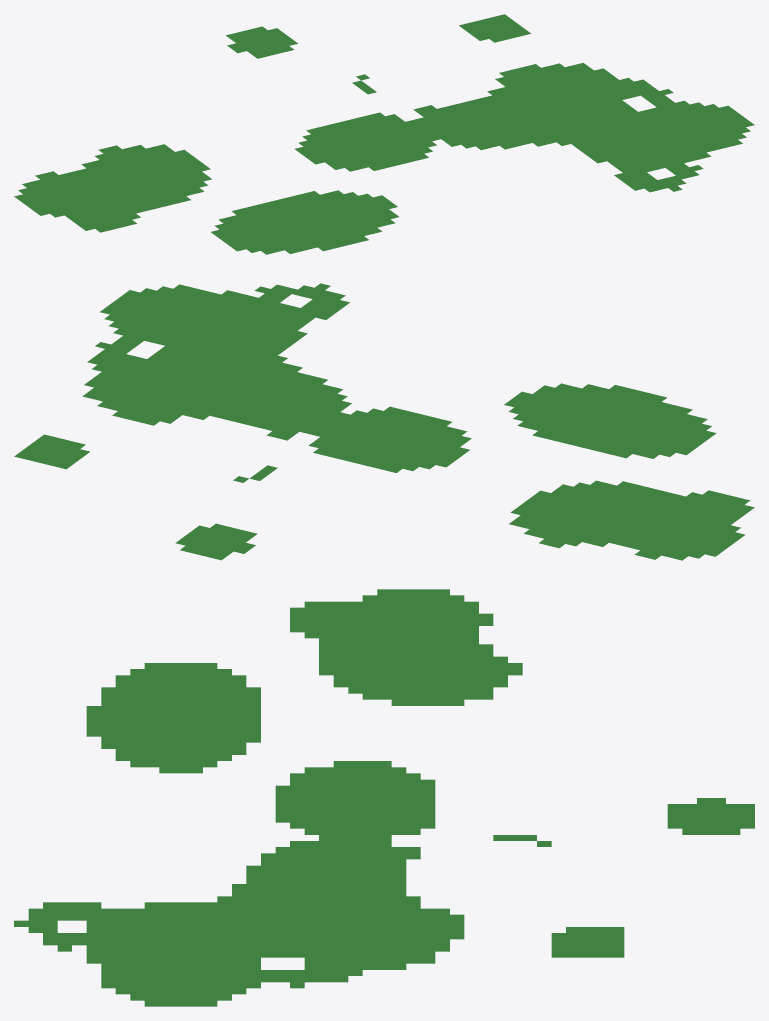
The model's file is Isl-flat4-TreesArea.fbx.
3 renders of one model, top to bottom at view 1: azimuth 30°, elevation 25°; view 2: azimuth 150°, elevation 25°; view 3: azimuth 270°, elevation 25°, orthographic. The views are drawn at different scales.
Visible parts, largest first — view 1: Isl-flat4-TreesArea; view 2: Isl-flat4-TreesArea; view 3: Isl-flat4-TreesArea.
Part boxes in pixels (x1,y1,x2,y2): Isl-flat4-TreesArea: (14, 14, 754, 254); Isl-flat4-TreesArea: (14, 283, 754, 560); Isl-flat4-TreesArea: (14, 589, 754, 1006).
Bounding box in the file's own units: 68 × 0 × 51.
